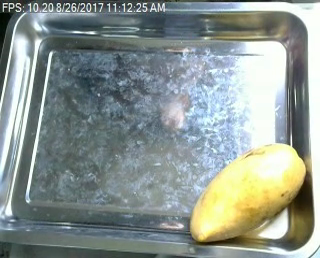Mango: (184, 137, 312, 247)
